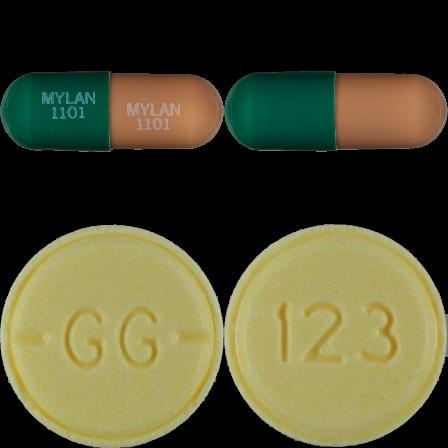55700-052: (0, 0, 224, 224)
